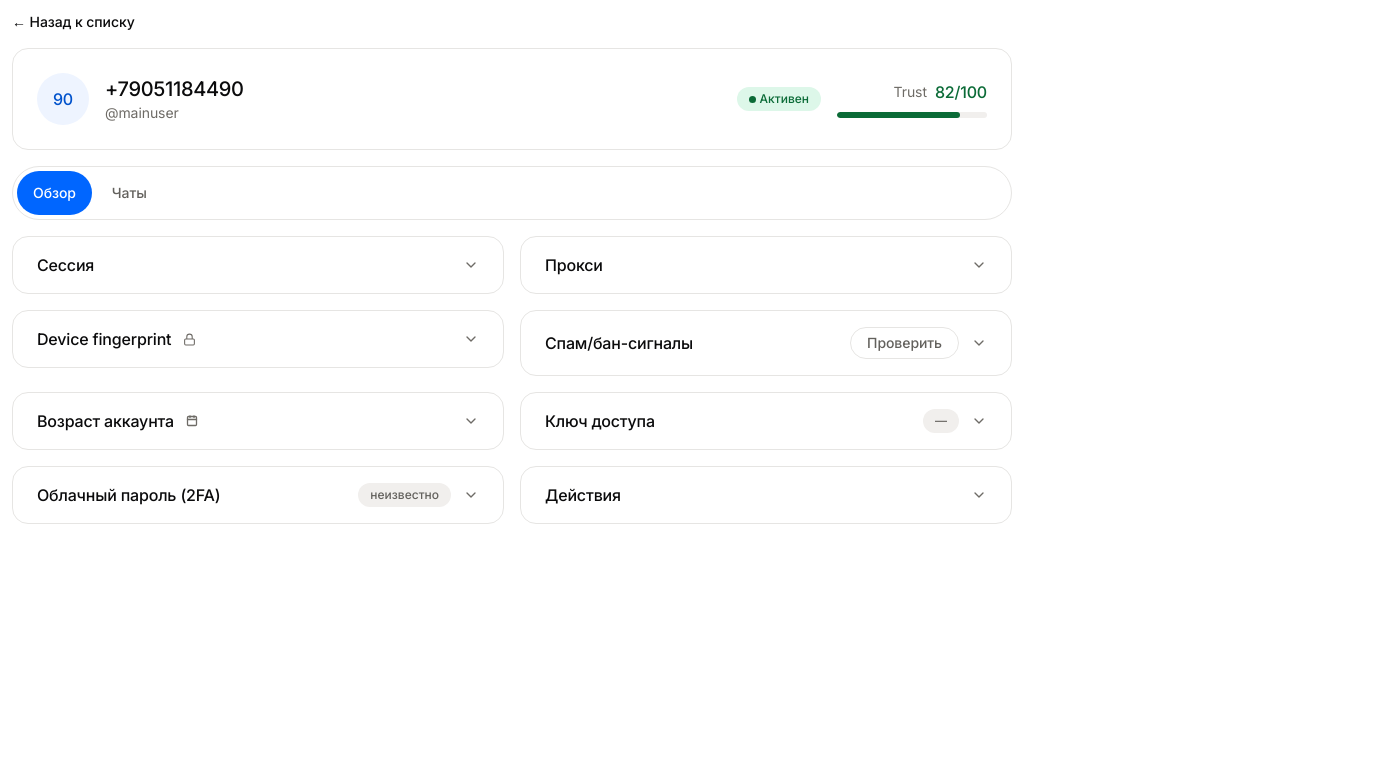
Test: a collapsed card keeps its controls out of the tab order and the a11y tree
This screenshot has width=1378, height=780.
Expected: the button "Удалить аккаунт" is not shown
What coordinates should you click on to do the following:
click the button "Действия"
I would click on:
 (583, 495)
Its box is [545,483,959,507].
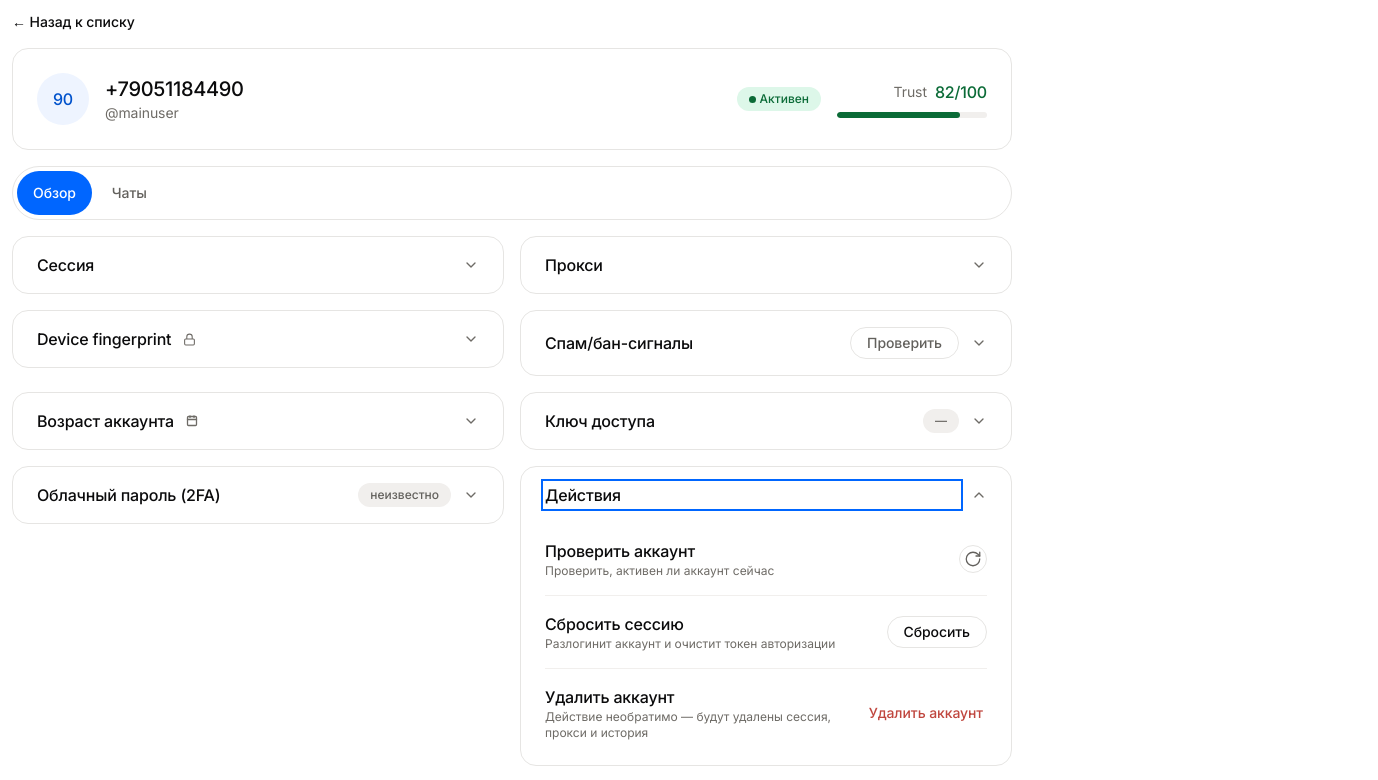
Result: the button "Удалить аккаунт" is shown at [865,695,987,731]
Result: the button named "Действия" is expanded at [971,487,987,503]
